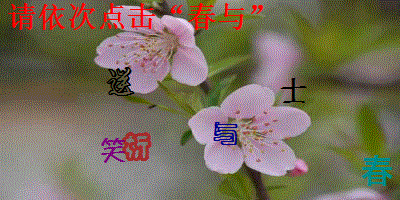result: (187, 2, 247, 32)
text: (359, 153, 395, 187), (106, 65, 134, 98), (279, 76, 308, 105), (123, 131, 151, 161), (99, 137, 127, 165), (211, 121, 239, 147)
